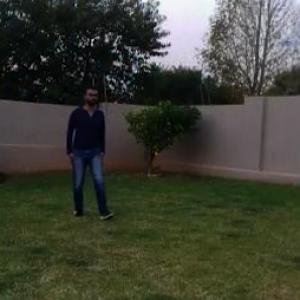follow: (64, 81, 112, 221)
